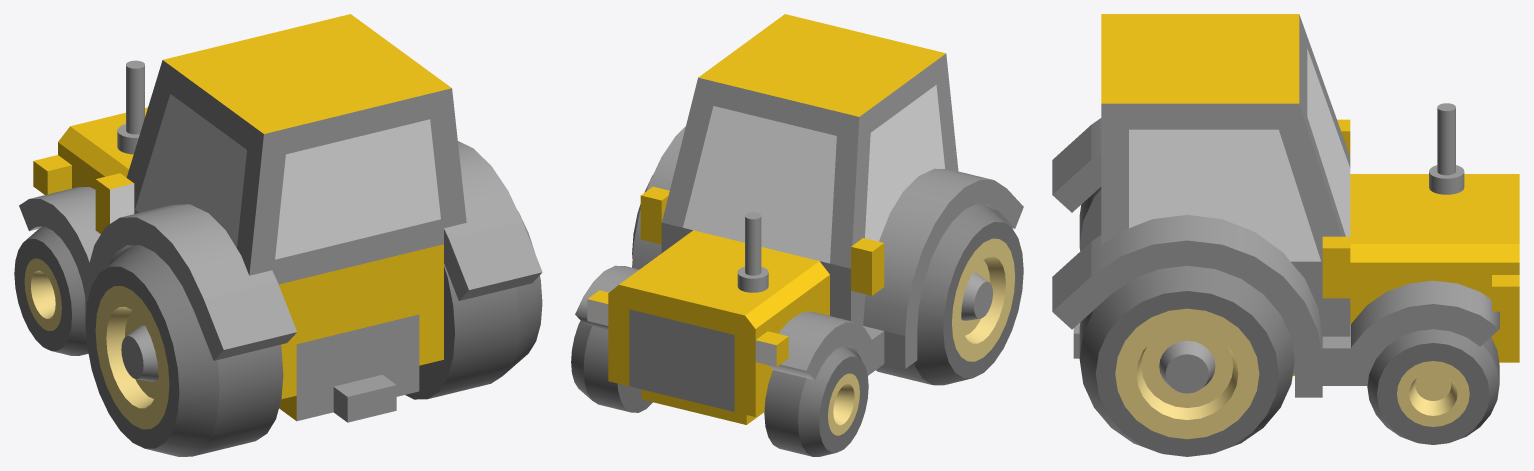
The model's file is tractor.glb.
3 renders of one model, left to right at view 1: azimuth 30°, elevation 25°; view 2: azimuth 150°, elevation 25°; view 3: azimuth 270°, elevation 25°, orthographic. The views are drawn at different scales.
Visible parts, largest first — view 1: body, skirts, wheel_backLeft, wheel_backRight, wheel_frontLeft; view 2: body, skirts, wheel_backLeft, wheel_frontLeft, wheel_frontRight; view 3: body, wheel_backRight, skirts, wheel_frontRight, wheel_backLeft.
Part boxes in pixels (<box>): body: <box>33,14,466,422</box>; skirts: <box>19,141,542,360</box>; wheel_backLeft: <box>85,245,283,456</box>; wheel_backRight: <box>405,211,542,399</box>; wheel_frontLeft: <box>14,226,88,355</box>; body: <box>587,14,958,424</box>; skirts: <box>575,126,1023,379</box>; wheel_backLeft: <box>876,203,1023,385</box>; wheel_frontLeft: <box>764,346,868,456</box>; wheel_frontRight: <box>571,320,652,412</box>; body: <box>1073,14,1519,375</box>; wheel_backRight: <box>1079,265,1294,456</box>; skirts: <box>1052,118,1499,397</box>; wheel_frontRight: <box>1367,329,1499,444</box>; wheel_backLeft: <box>1079,187,1101,250</box>.
Size of the model in its own units: 1.66 by 1.46 by 1.9.
